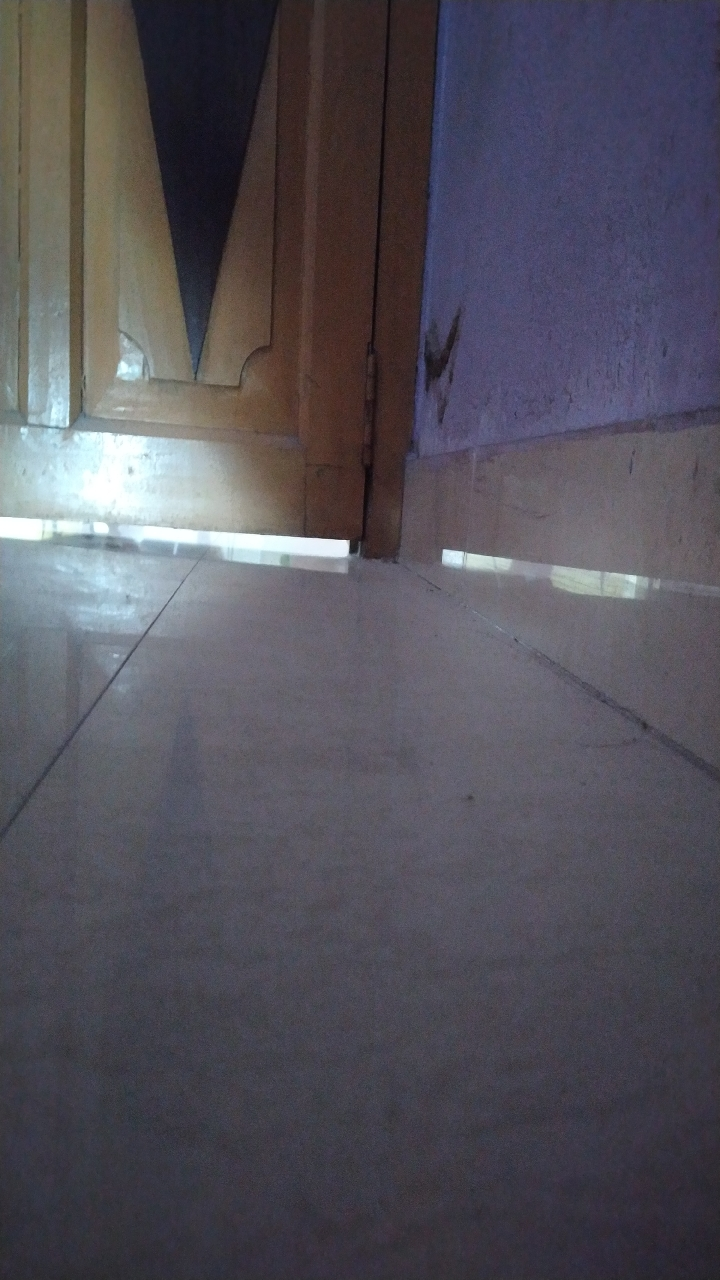Doors: (1, 98, 437, 587)
